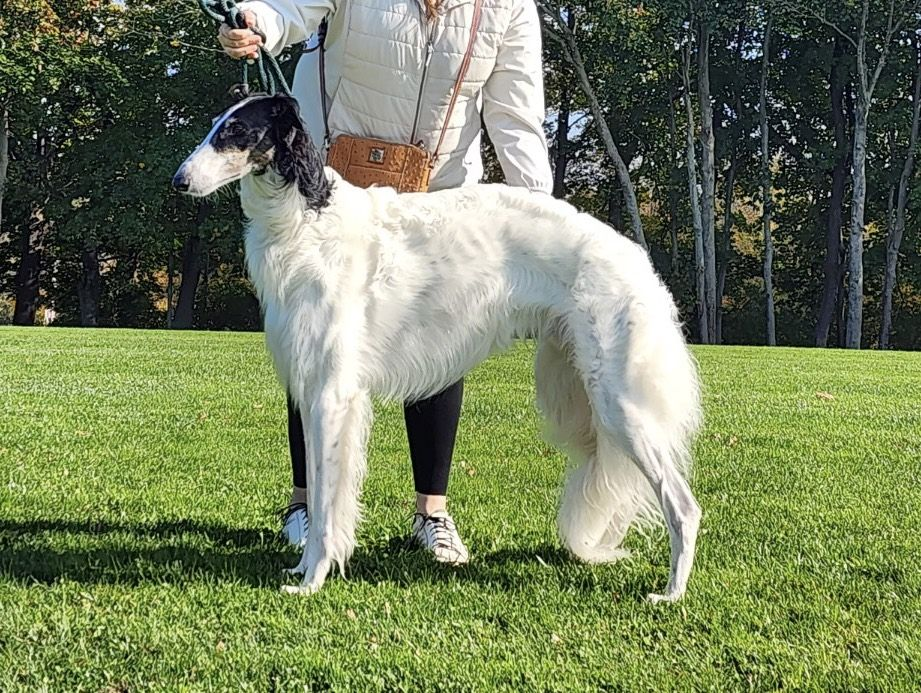borzoi: (148, 84, 713, 613)
